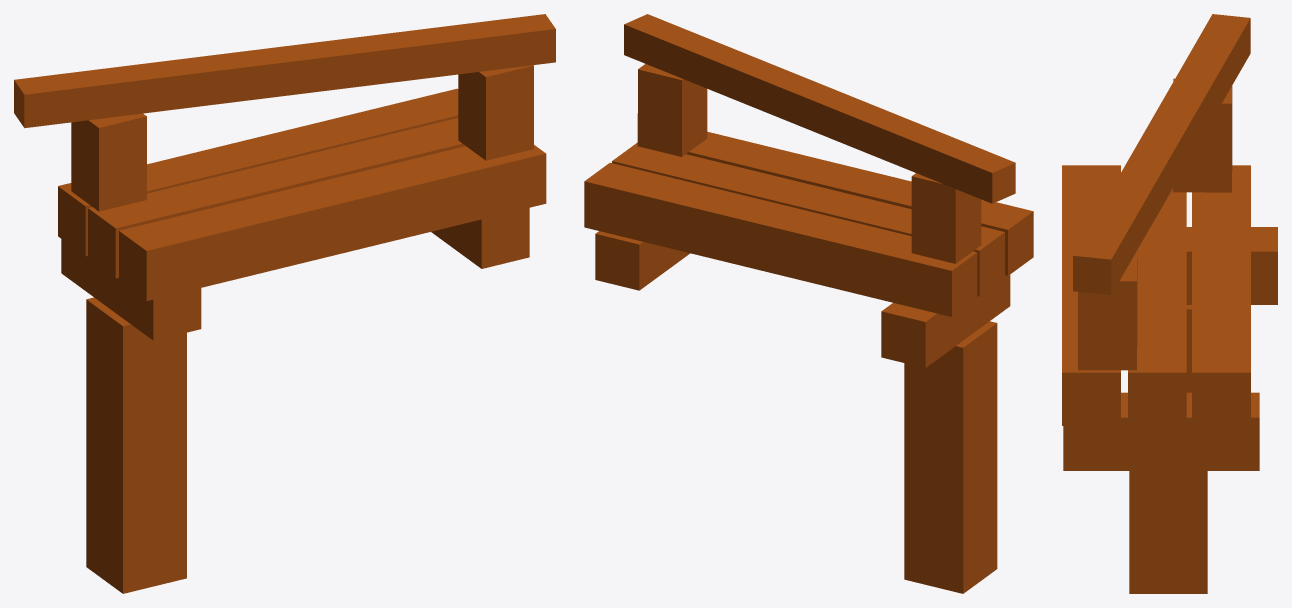
File: Dynamic_100kg_0_5friction.fbx
3 renders of one model, left to right at view 1: azimuth 30°, elevation 25°; view 2: azimuth 150°, elevation 25°; view 3: azimuth 270°, elevation 25°, orthographic. The views are drawn at different scales.
Parts seen in each view (by area): view 1: D1DynamicBox8, D1DynamicBox9, D1DynamicBox2, D1DynamicBox6, D1DynamicBox7, D1DynamicBox10, D1DynamicBox5, D1DynamicBox3, D1DynamicBox4; view 2: D1DynamicBox7, D1DynamicBox2, D1DynamicBox9, D1DynamicBox6, D1DynamicBox8, D1DynamicBox3, D1DynamicBox5, D1DynamicBox10, D1DynamicBox4; view 3: D1DynamicBox9, D1DynamicBox7, D1DynamicBox6, D1DynamicBox2, D1DynamicBox4, D1DynamicBox8, D1DynamicBox5, D1DynamicBox10, D1DynamicBox3.
Part boxes in pixels (x1=…): D1DynamicBox8: x1=119, y1=145, x2=546, y2=300; D1DynamicBox9: x1=14, y1=14, x2=555, y2=128; D1DynamicBox2: x1=86, y1=297, x2=186, y2=593; D1DynamicBox6: x1=88, y1=118, x2=465, y2=278; D1DynamicBox7: x1=58, y1=88, x2=458, y2=256; D1DynamicBox10: x1=71, y1=113, x2=146, y2=211; D1DynamicBox5: x1=458, y1=65, x2=533, y2=160; D1DynamicBox3: x1=61, y1=239, x2=201, y2=340; D1DynamicBox4: x1=431, y1=208, x2=529, y2=268; D1DynamicBox7: x1=584, y1=162, x2=977, y2=316; D1DynamicBox2: x1=904, y1=321, x2=997, y2=593; D1DynamicBox9: x1=624, y1=14, x2=1015, y2=203; D1DynamicBox6: x1=612, y1=142, x2=1004, y2=296; D1DynamicBox8: x1=686, y1=131, x2=1033, y2=275; D1DynamicBox3: x1=881, y1=275, x2=1010, y2=367; D1DynamicBox5: x1=637, y1=64, x2=707, y2=156; D1DynamicBox10: x1=911, y1=173, x2=981, y2=263; D1DynamicBox4: x1=595, y1=231, x2=689, y2=290; D1DynamicBox9: x1=1073, y1=14, x2=1250, y2=295; D1DynamicBox7: x1=1192, y1=165, x2=1250, y2=425; D1DynamicBox6: x1=1128, y1=189, x2=1186, y2=425; D1DynamicBox2: x1=1129, y1=305, x2=1207, y2=593; D1DynamicBox4: x1=1063, y1=392, x2=1259, y2=470; D1DynamicBox8: x1=1062, y1=165, x2=1120, y2=425; D1DynamicBox5: x1=1078, y1=256, x2=1137, y2=370; D1DynamicBox10: x1=1173, y1=78, x2=1232, y2=192; D1DynamicBox3: x1=1186, y1=227, x2=1277, y2=304.
Size of what is drawn, in the model's own units: 29.62 by 29 by 10.99.
